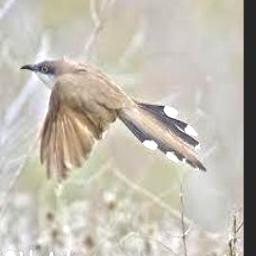Cuckoo: (20, 56, 207, 181)
